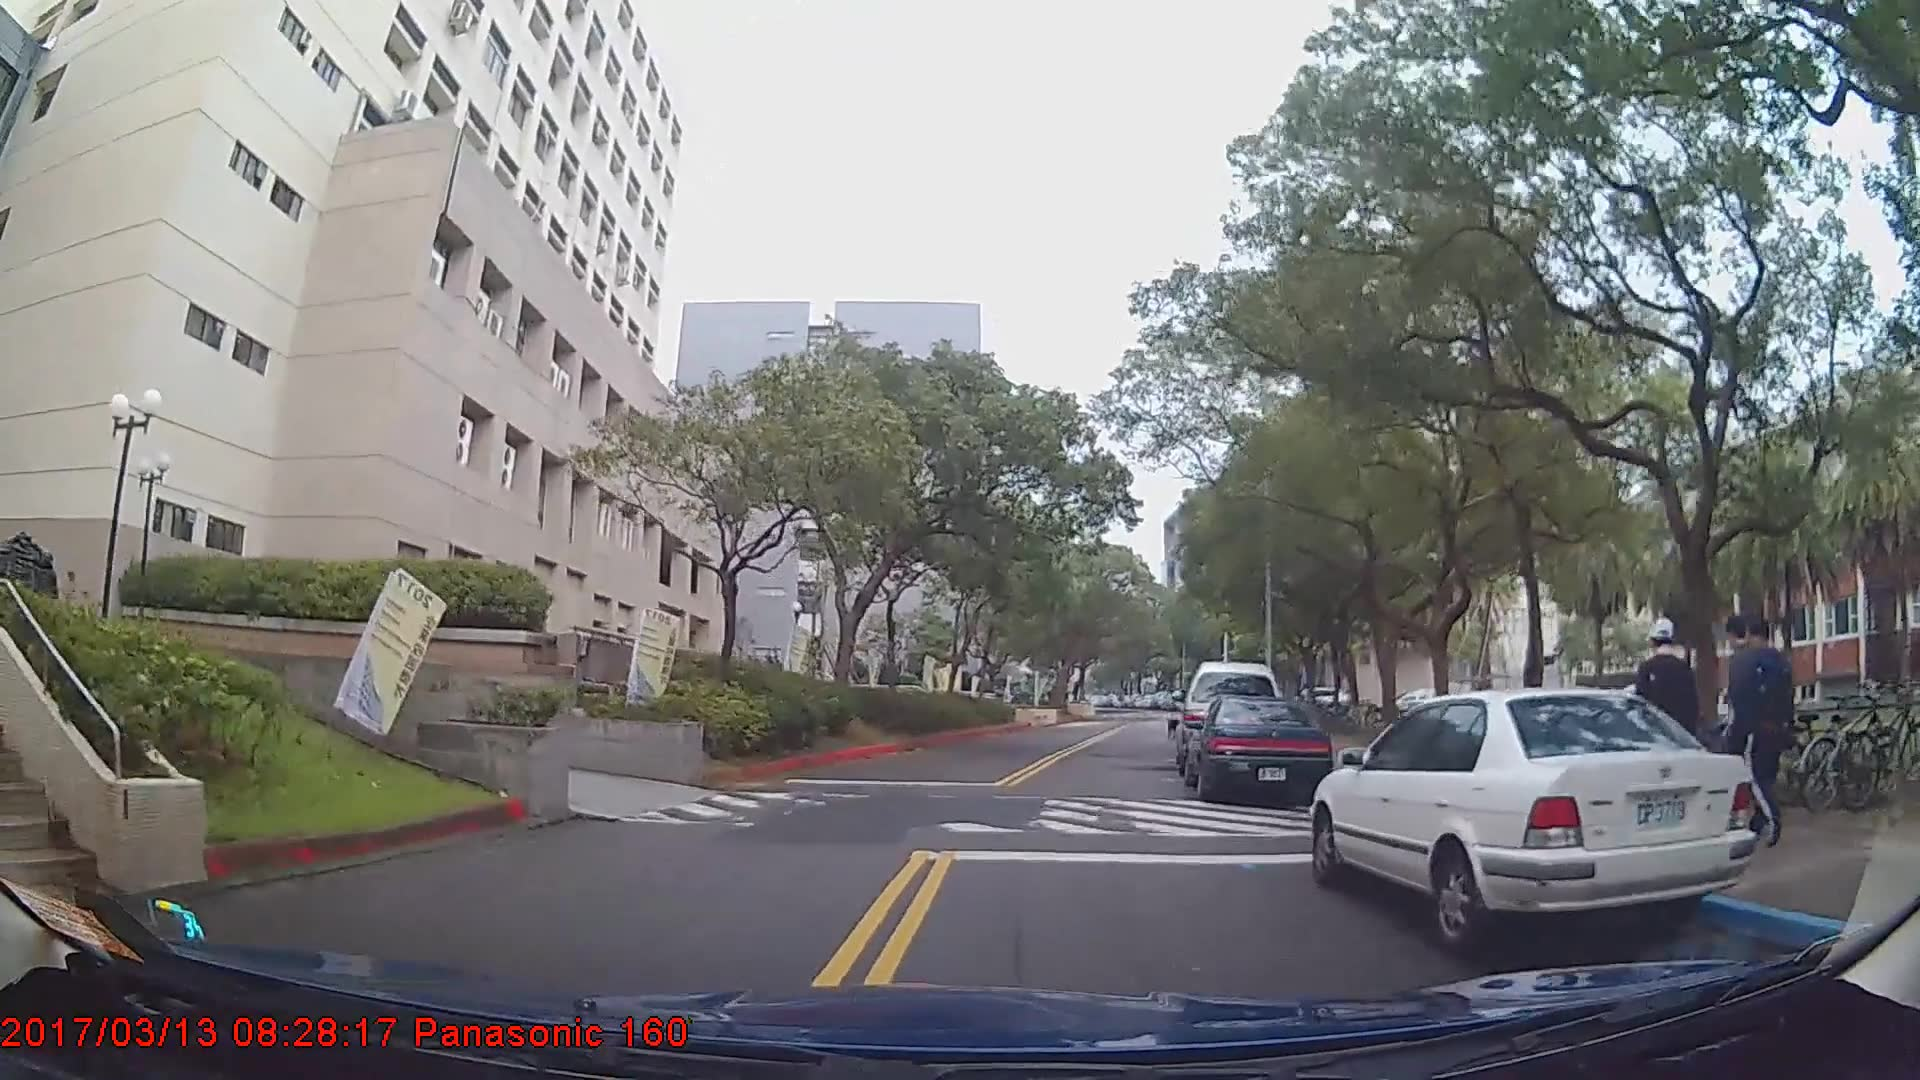pedestrian: (1718, 616, 1787, 832), (1639, 613, 1702, 826)
vehicle: (1308, 683, 1760, 953), (1180, 691, 1334, 800)
